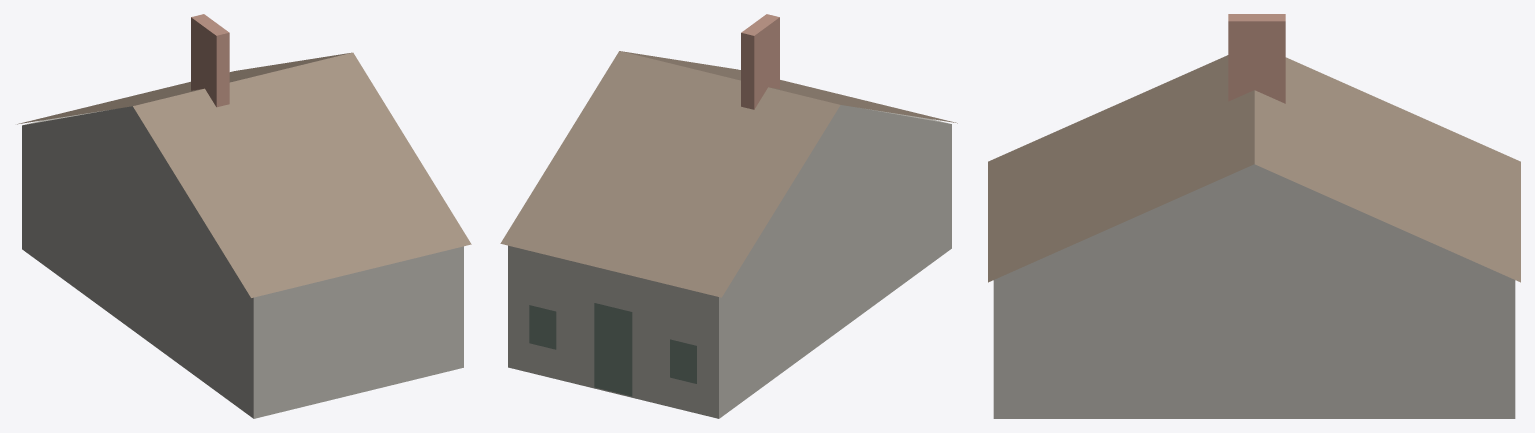
The model's file is recon_1835_south_c2_036__recommended_1835.glb.
3 renders of one model, left to right at view 1: azimuth 30°, elevation 25°; view 2: azimuth 150°, elevation 25°; view 3: azimuth 270°, elevation 25°, orthographic. The views are drawn at different scales.
Parts seen in each view (by area): view 1: recon_1835_south_c2_036__recommended_1835; view 2: recon_1835_south_c2_036__recommended_1835; view 3: recon_1835_south_c2_036__recommended_1835.
Boxes of the visible parts, x1,y1,x2,y2 form: recon_1835_south_c2_036__recommended_1835: [17, 14, 471, 418]; recon_1835_south_c2_036__recommended_1835: [500, 14, 957, 418]; recon_1835_south_c2_036__recommended_1835: [988, 14, 1520, 418].
Bounding box in the file's own units: 6.05 × 7.62 × 11.27.
